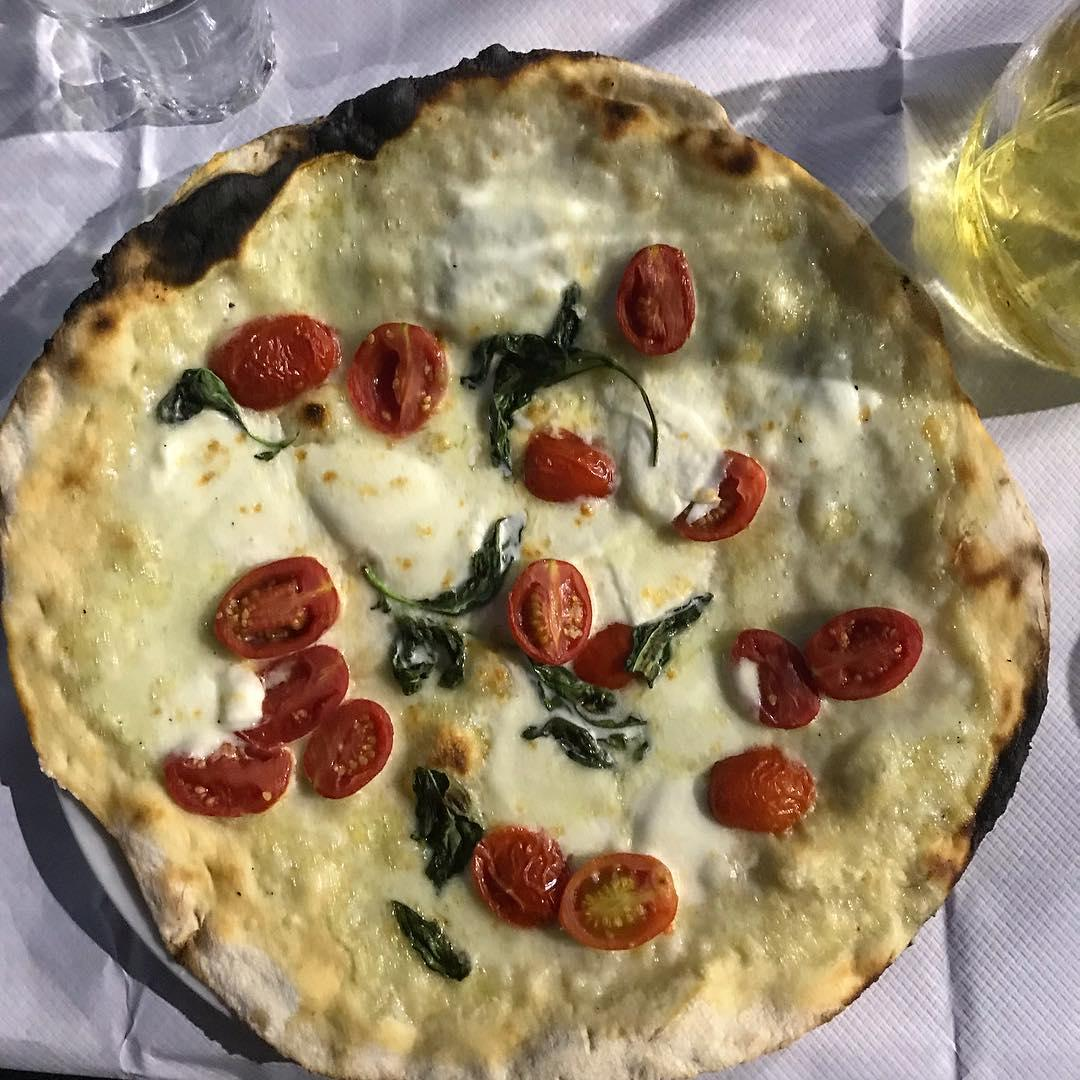Basil: (396, 518, 503, 690), (486, 281, 582, 411), (538, 669, 646, 768), (414, 768, 474, 881)
Tomatoes: (215, 556, 341, 658), (234, 644, 349, 740), (349, 322, 447, 434), (565, 851, 677, 949), (806, 609, 922, 700), (226, 315, 336, 407), (161, 740, 289, 817), (302, 699, 393, 799), (473, 827, 565, 925), (673, 451, 766, 543), (707, 751, 813, 831), (619, 243, 696, 353), (510, 559, 591, 662), (736, 630, 819, 729), (526, 429, 615, 502), (574, 625, 640, 688)
